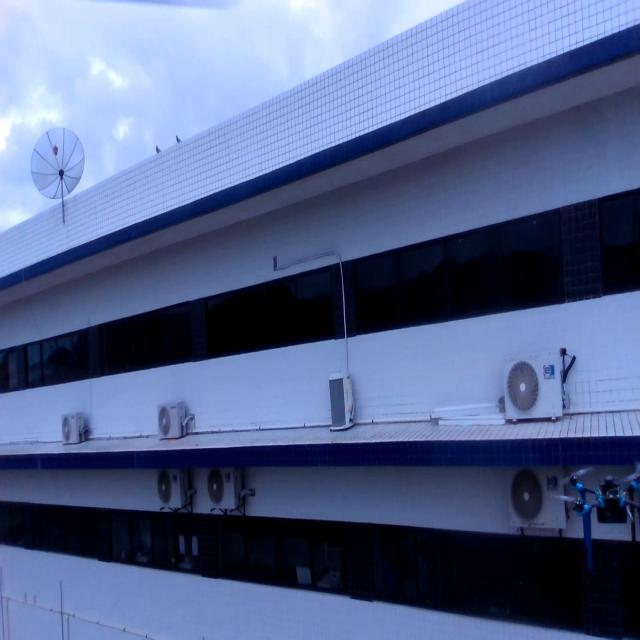-uav-: (556, 460, 640, 580)
